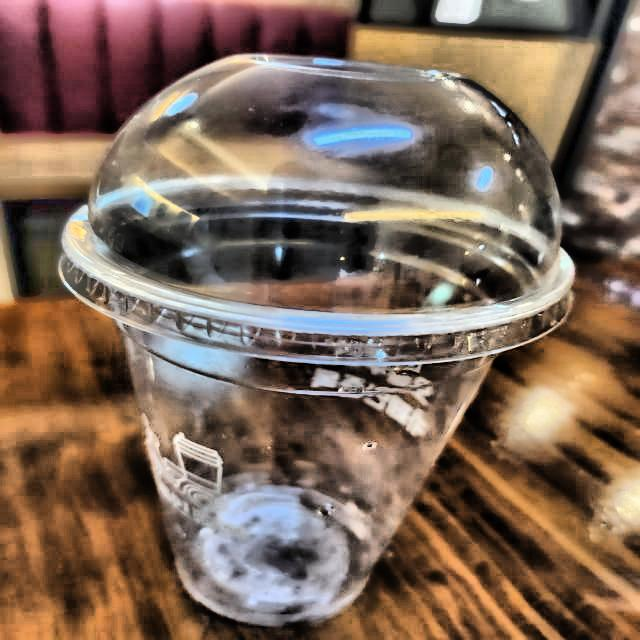plastic cup: (30, 27, 589, 634)
